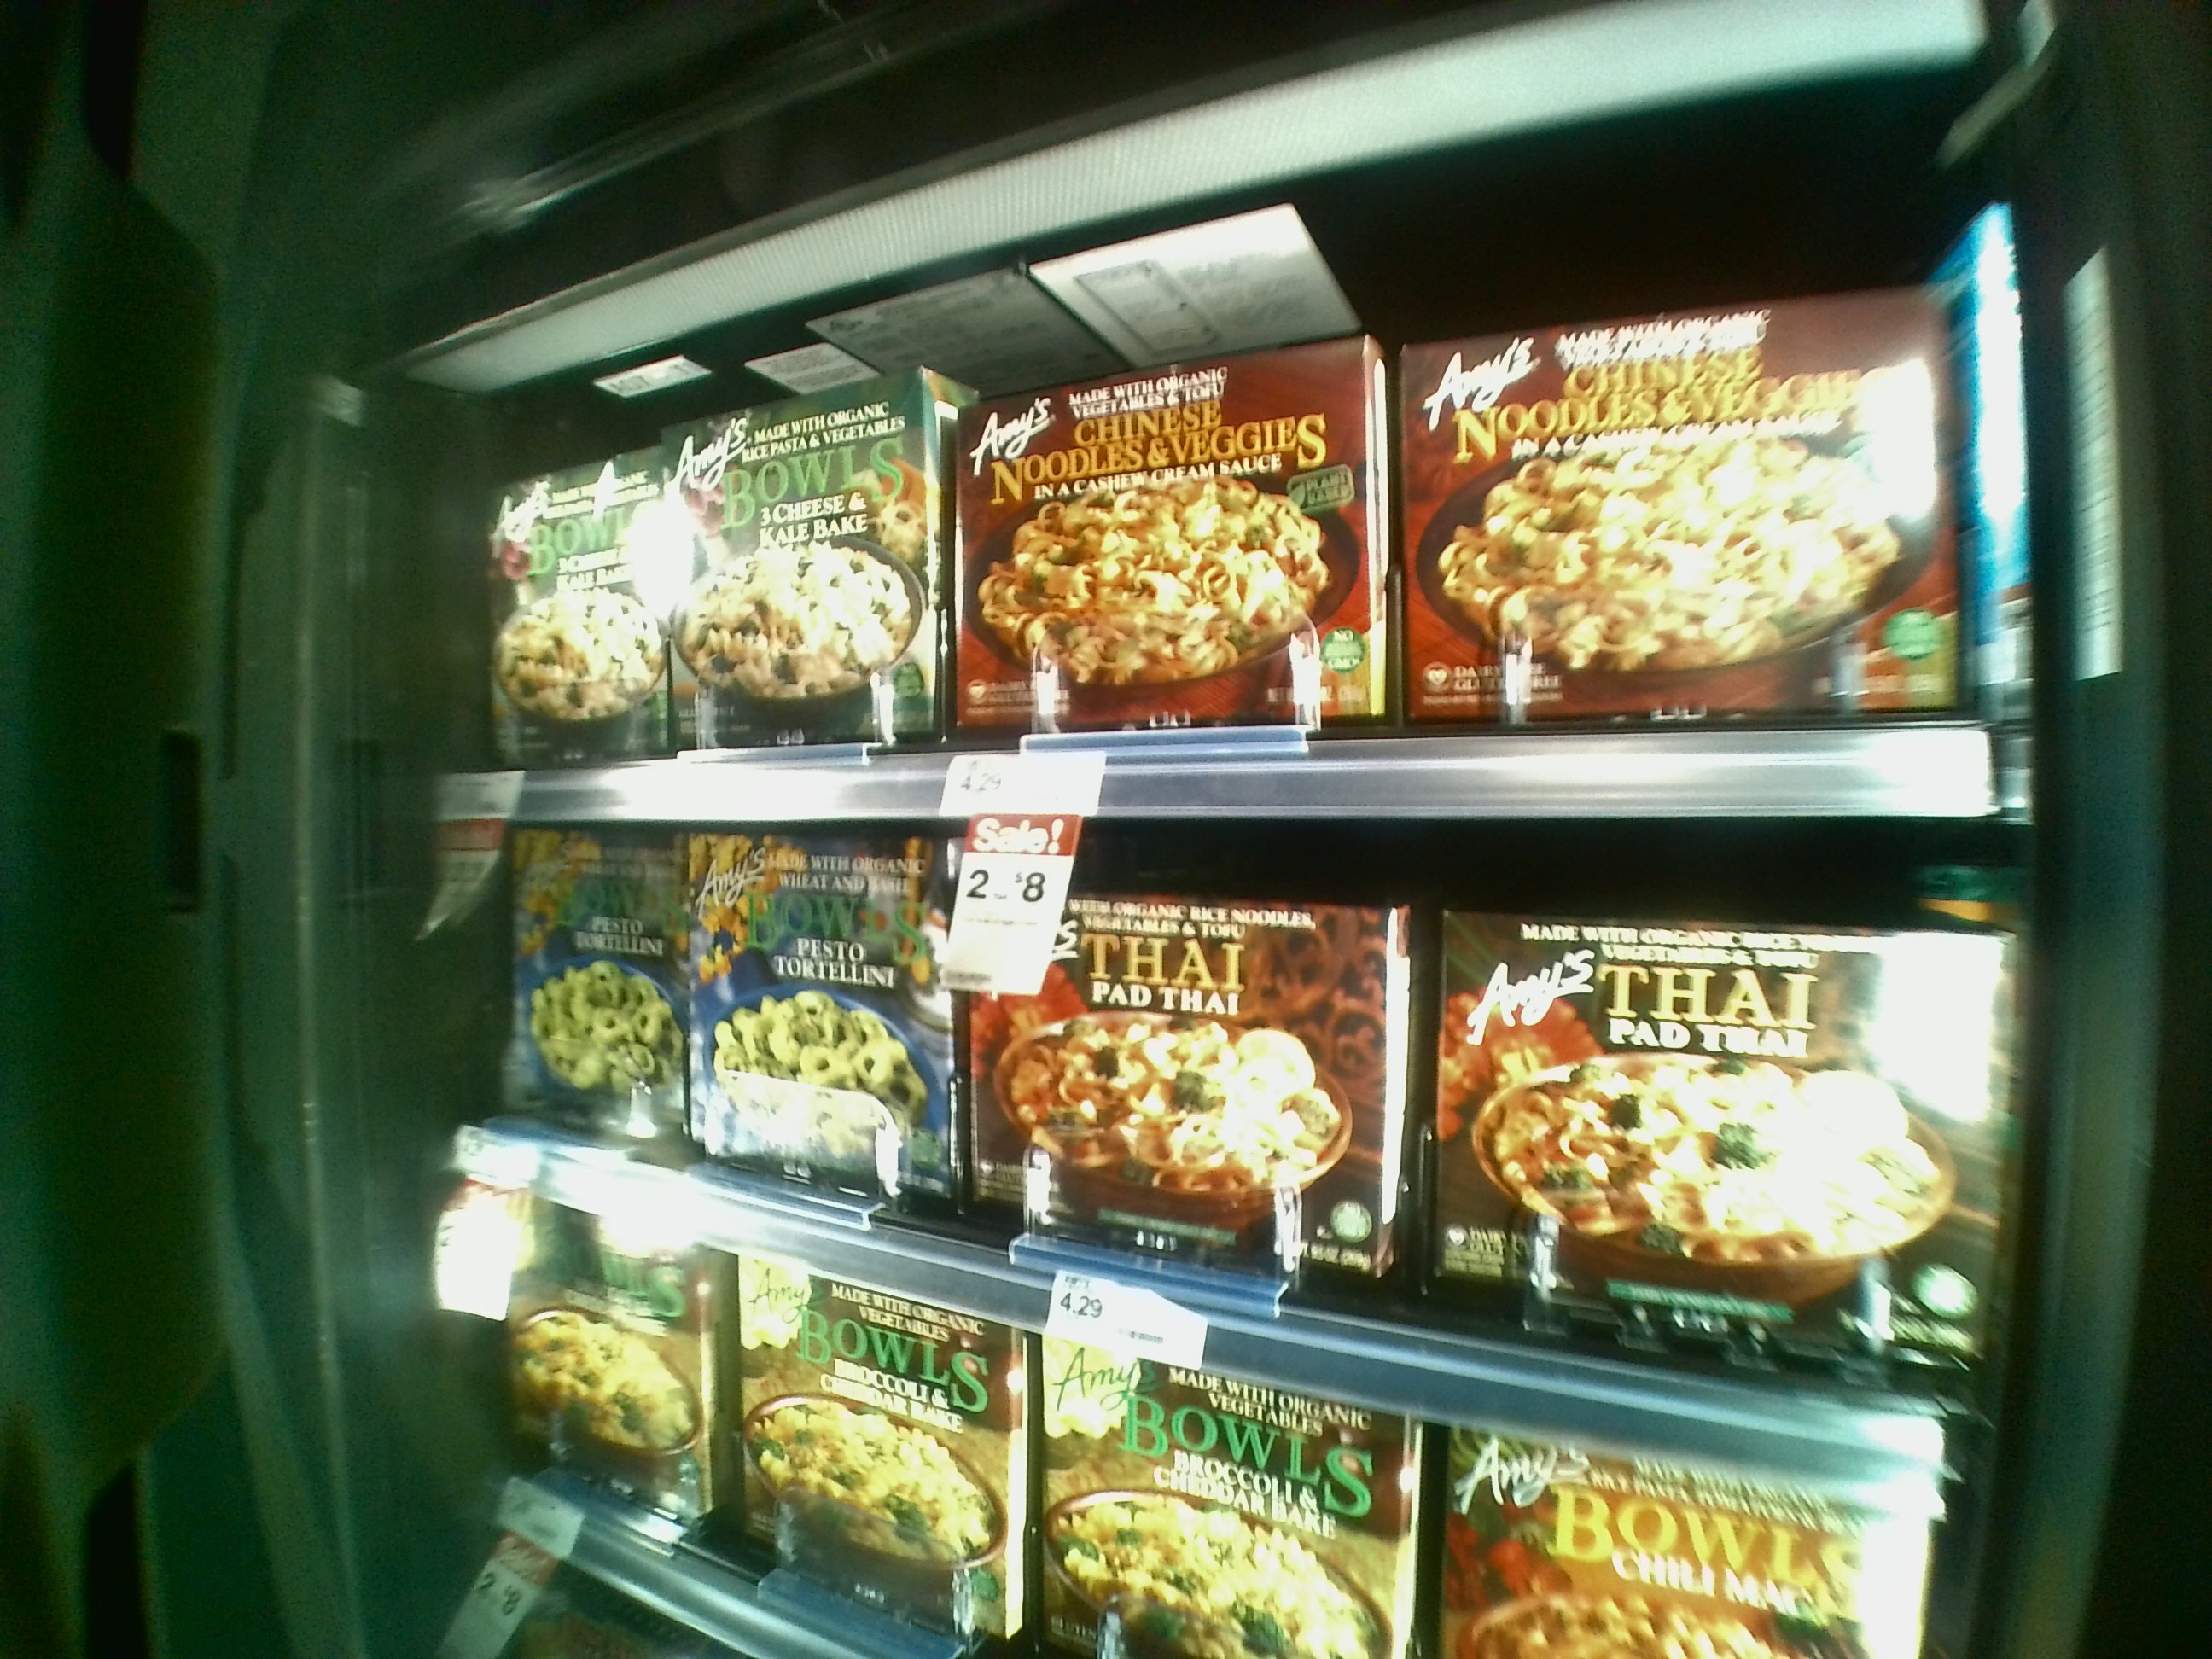shelf: (463, 812, 2006, 1446), (432, 247, 2038, 824)
